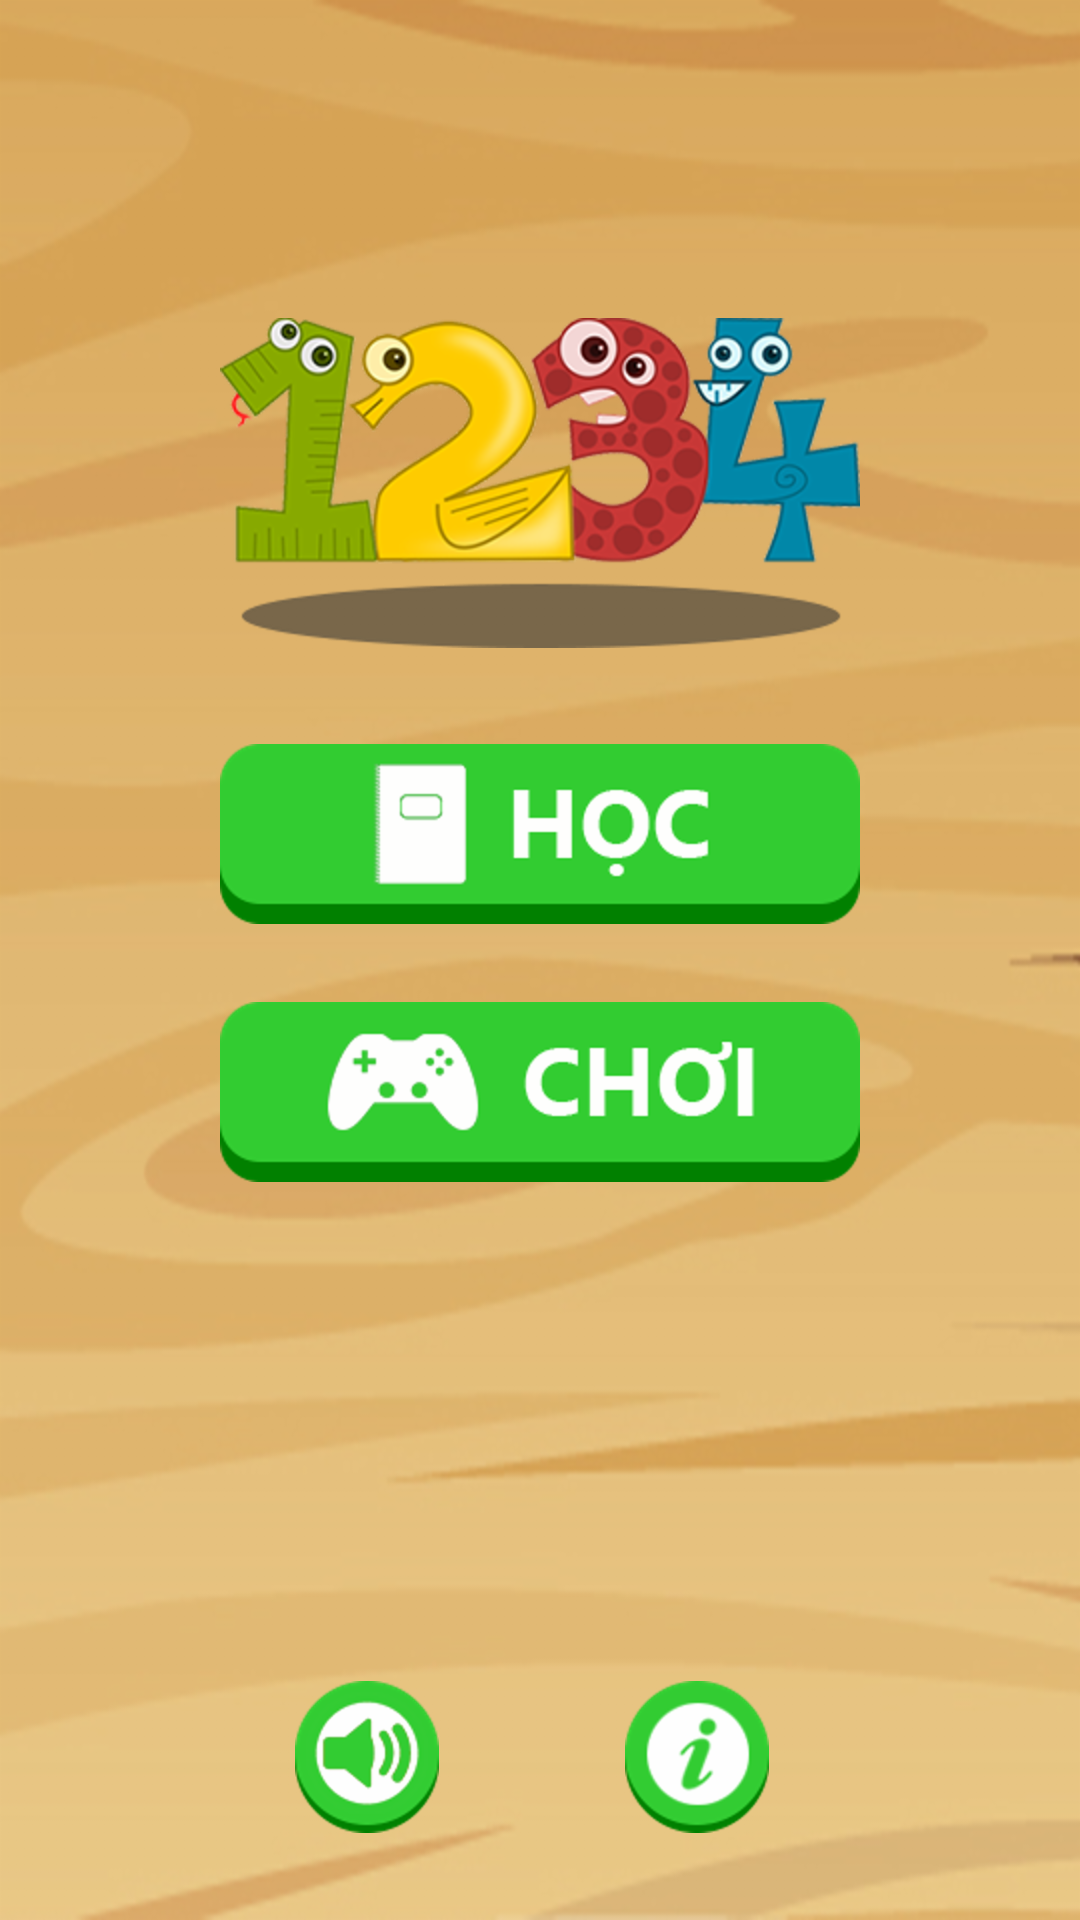

Point at icon controls on the screen. Image size 1080w x 1920h, points as [x,y].
tgb sound: [367,1757]
